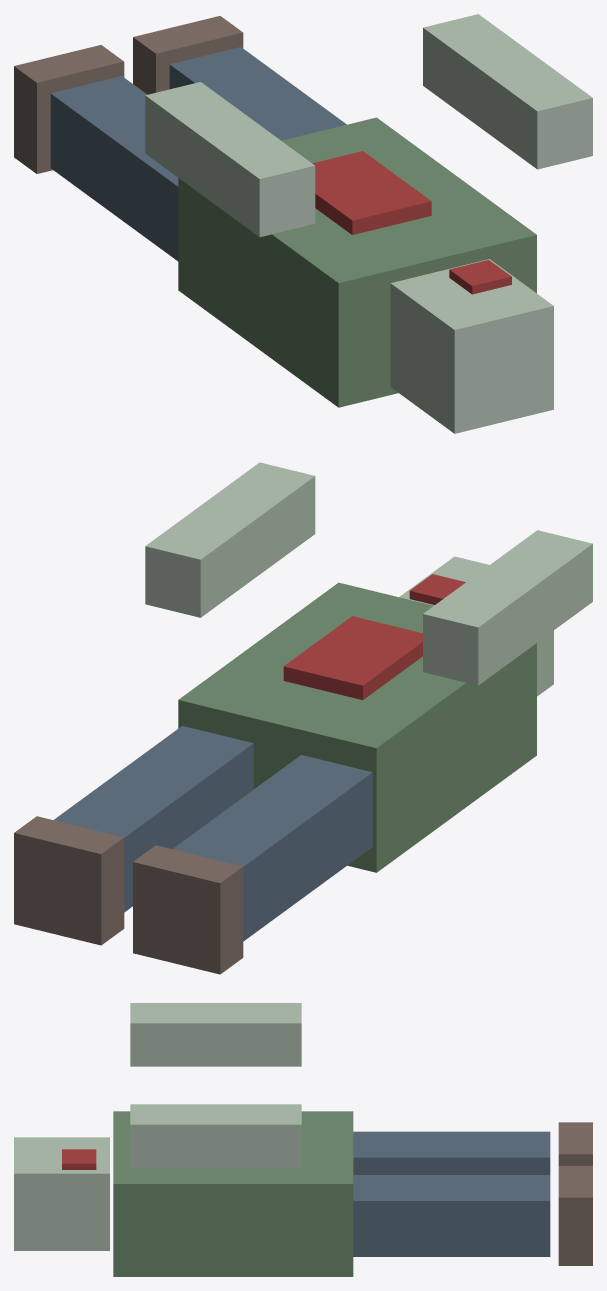
File: zombie_lowpoly_arms_forward.glb
The picture shows the model from 3 angles, top to bottom: view 1: azimuth 30°, elevation 25°; view 2: azimuth 150°, elevation 25°; view 3: azimuth 270°, elevation 25°; orthographic projection. The views are drawn at different scales.
Visible parts, largest first — view 1: torso, head, right_arm, left_arm, right_leg, left_leg, blood_torso, right_shoe, left_shoe, blood_head; view 2: torso, right_leg, left_arm, right_arm, left_leg, left_shoe, right_shoe, blood_torso, head, blood_head; view 3: torso, left_leg, left_arm, right_arm, head, right_leg, left_shoe, right_shoe, blood_head.
Boxes of the visible parts, x1,y1,x2,y2 form: torso: (178,117,536,407); head: (390,259,553,433); right_arm: (145,82,315,236); left_arm: (423,14,592,169); right_leg: (50,76,178,261); left_leg: (169,47,346,140); blood_torso: (312,151,431,234); right_shoe: (14,45,124,173); left_shoe: (133,16,243,94); blood_head: (449,260,511,294); torso: (178,582,536,872); right_leg: (172,755,372,941); left_arm: (145,462,315,617); right_arm: (423,530,592,685); left_leg: (53,726,253,912); left_shoe: (14,816,124,945); right_shoe: (133,845,243,974); blood_torso: (283,616,422,699); head: (399,556,553,696); blood_head: (409,574,465,604); torso: (113,1111,353,1276); left_leg: (353,1175,550,1256); left_arm: (130,1104,301,1167); right_arm: (130,1003,301,1066); head: (14,1137,109,1250); right_leg: (353,1131,550,1174); left_shoe: (558,1166,592,1265); right_shoe: (558,1122,592,1165); blood_head: (62,1149,96,1169).
Bounding box in the file's own units: 0.84 × 0.57 × 1.69.
